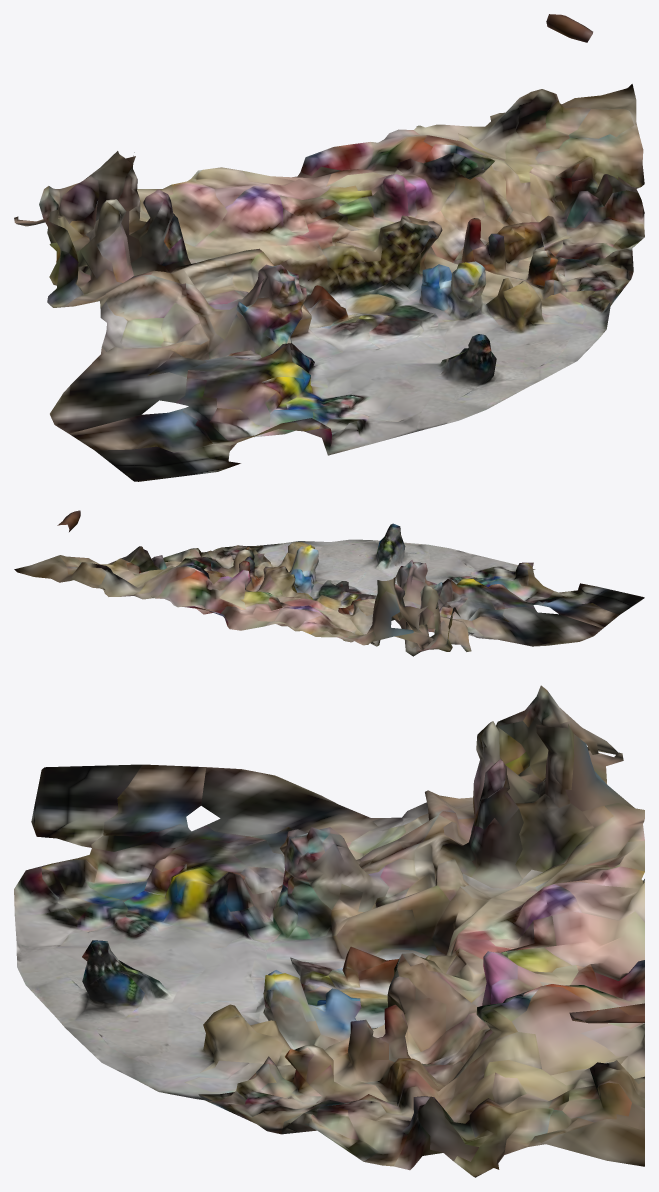
The model's file is hall.glb.
3 renders of one model, top to bottom at view 1: azimuth 30°, elevation 25°; view 2: azimuth 150°, elevation 25°; view 3: azimuth 270°, elevation 25°, orthographic. The views are drawn at different scales.
Size of the model in its own units: 3.63 by 0.703 by 2.16.
Materials: 1 (1 with a texture image).
